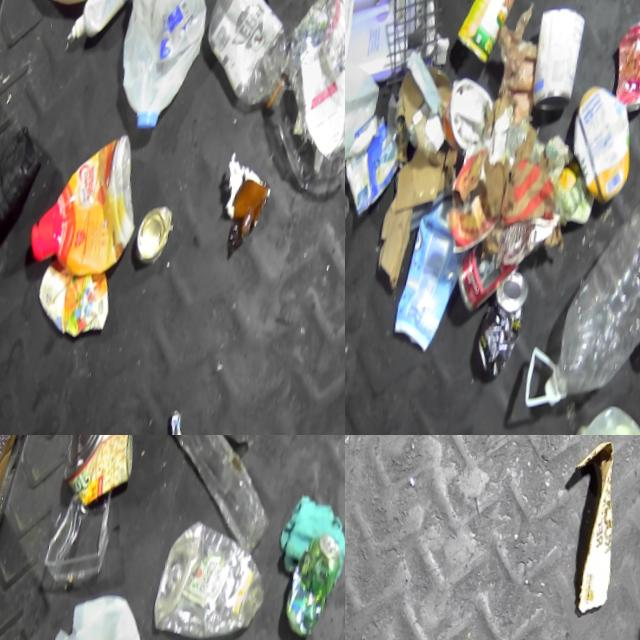can: (52, 435, 154, 511), (345, 106, 412, 217), (523, 0, 592, 106), (282, 518, 345, 633), (480, 258, 542, 374), (457, 229, 530, 316), (451, 0, 527, 62), (608, 2, 640, 108), (136, 193, 182, 263)
milk_jug: (102, 0, 217, 133), (23, 576, 163, 640), (345, 41, 390, 184), (562, 387, 640, 435)
non_white_jug: (28, 114, 160, 282), (398, 191, 481, 350), (561, 73, 640, 202)
plastic_bottle: (528, 135, 640, 425), (153, 508, 280, 640), (194, 0, 311, 105)
